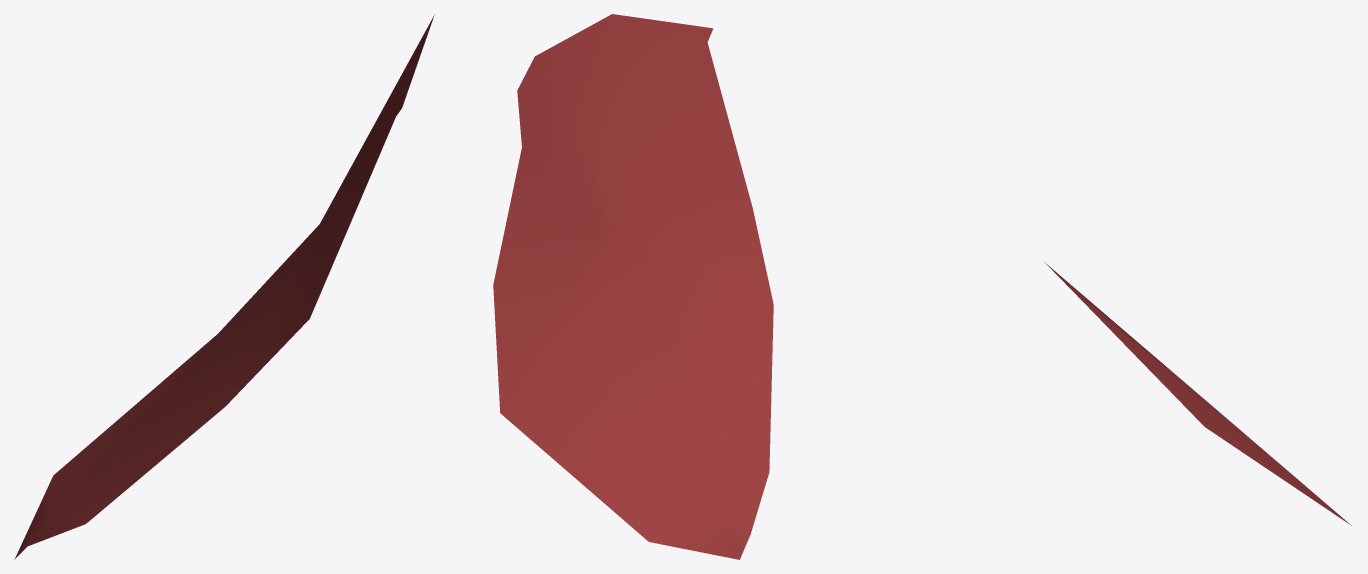
The model's file is lateral-head-of-gastrocnemius-or.glb.
The picture shows the model from 3 angles, left to right: view 1: azimuth 30°, elevation 25°; view 2: azimuth 150°, elevation 25°; view 3: azimuth 270°, elevation 25°; orthographic projection. The views are drawn at different scales.
Visible parts, largest first — view 1: Lateral head of gastrocnemius.or; view 2: Lateral head of gastrocnemius.or; view 3: Lateral head of gastrocnemius.or.
Part boxes in pixels (x1,y1,x2,y2): Lateral head of gastrocnemius.or: (14, 14, 434, 559); Lateral head of gastrocnemius.or: (493, 14, 773, 559); Lateral head of gastrocnemius.or: (1044, 262, 1351, 525).
Bounding box in the file's own units: 0.0132 × 0.0192 × 0.0134.
